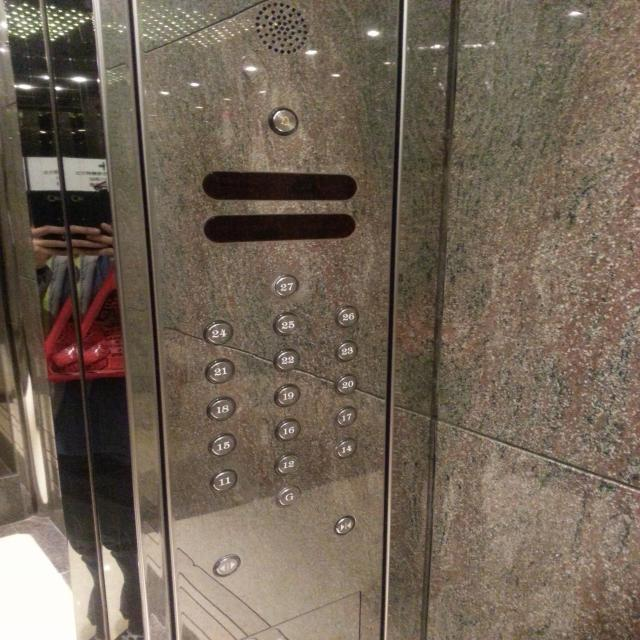11: (208, 468, 238, 492)
12: (273, 451, 302, 477)
14: (332, 436, 358, 461)
15: (206, 431, 240, 459)
16: (273, 417, 302, 443)
17: (334, 404, 360, 430)
18: (204, 394, 238, 422)
19: (273, 383, 301, 408)
20: (334, 372, 360, 397)
21: (204, 357, 237, 385)
22: (273, 347, 301, 372)
23: (334, 337, 360, 363)
24: (202, 319, 235, 347)
25: (273, 311, 301, 336)
26: (335, 303, 360, 330)
27: (270, 273, 299, 299)
G: (276, 484, 302, 508)
alarm: (267, 104, 300, 136)
close: (332, 514, 357, 536)
open: (211, 552, 242, 578)
